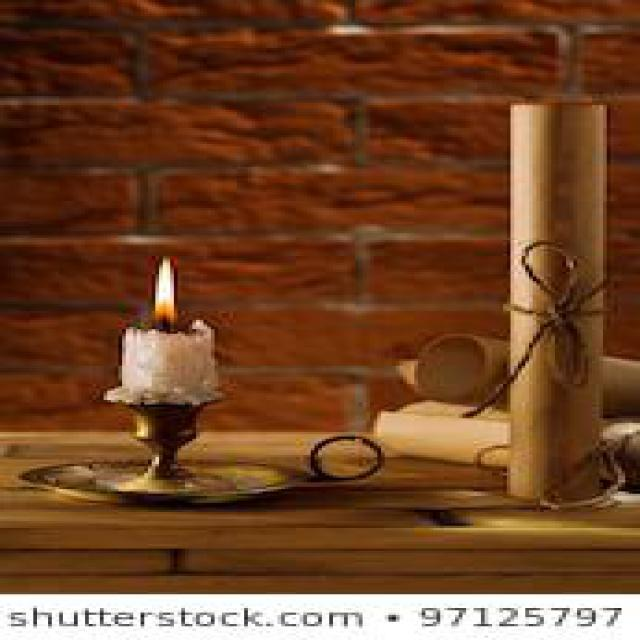Fire: (154, 256, 176, 327)
